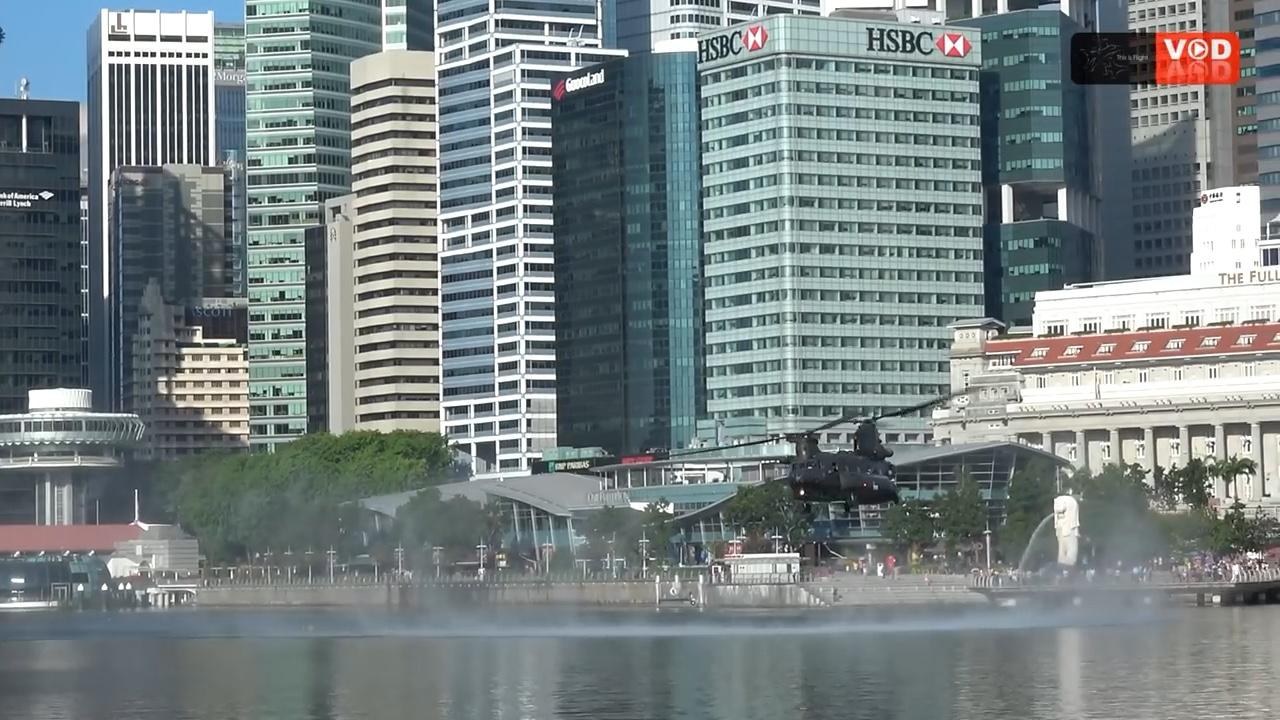chinook: (655, 384, 988, 518)
